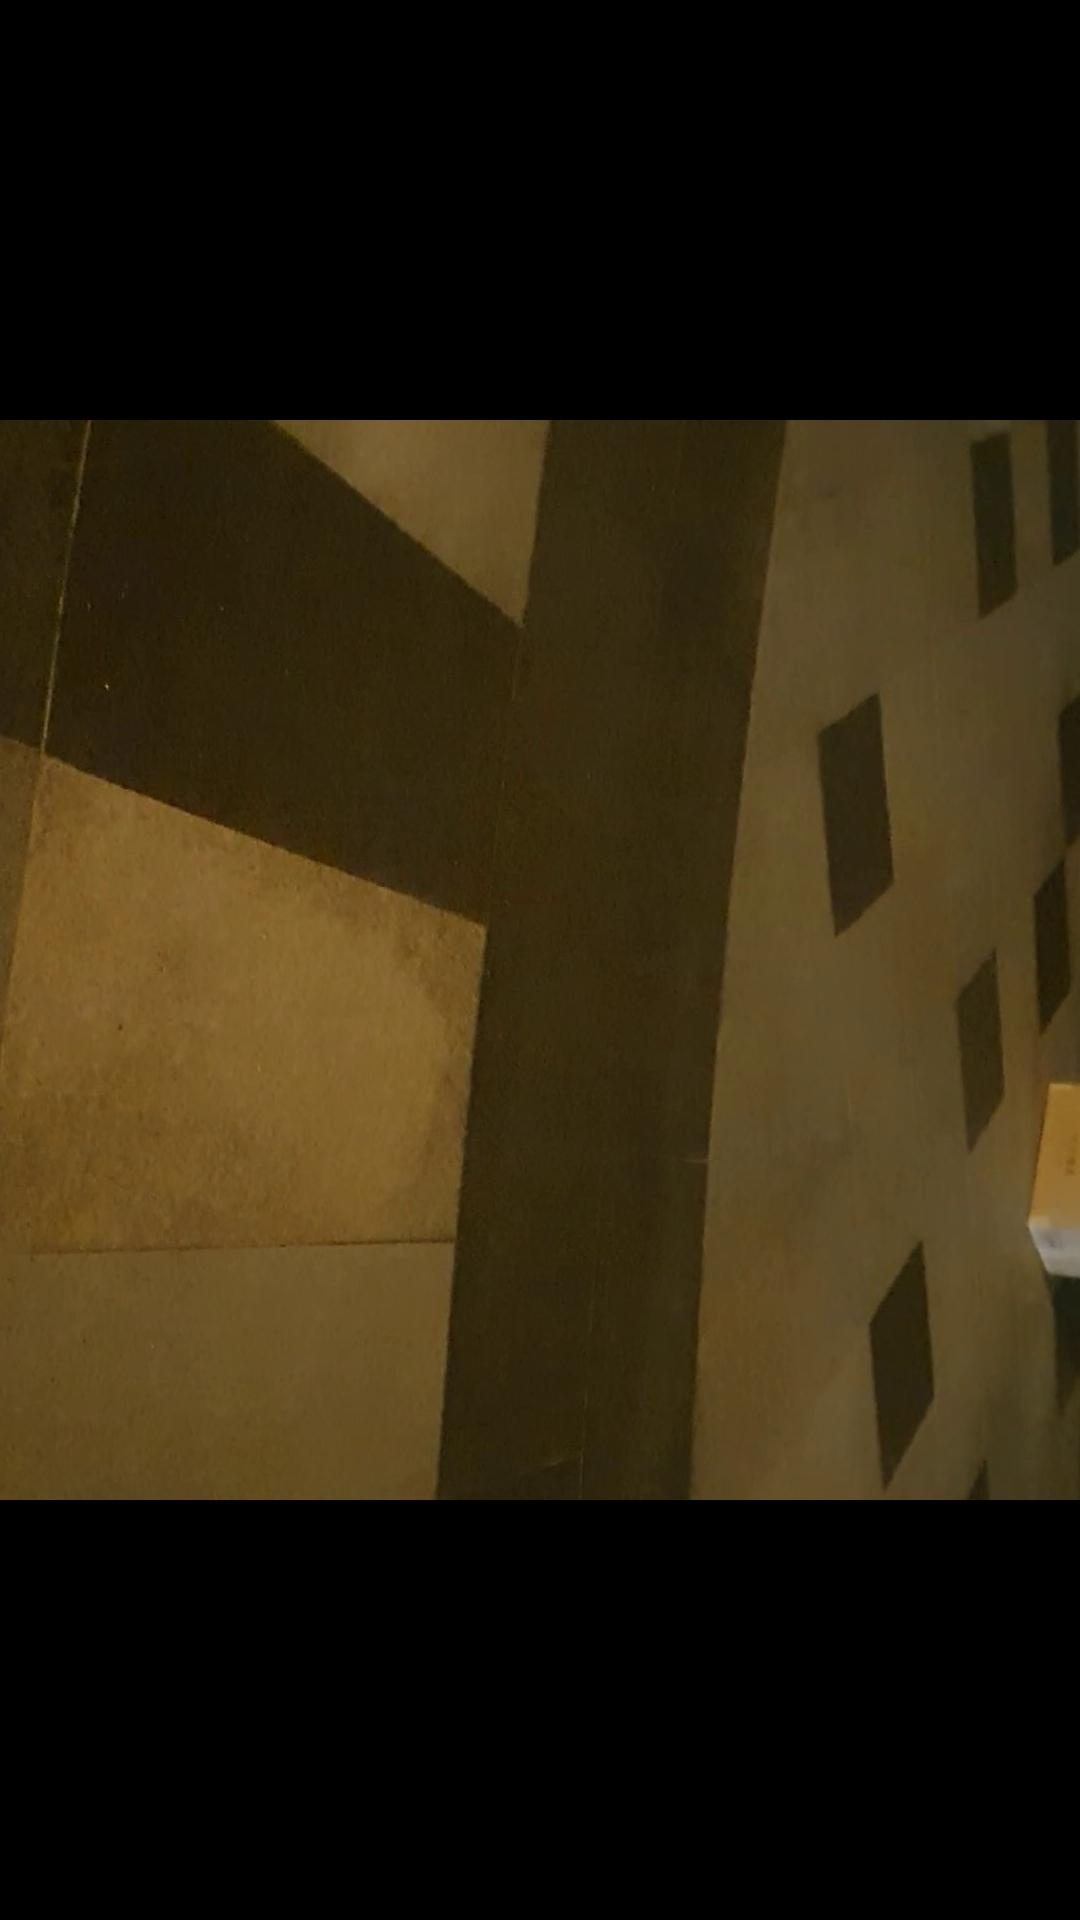Box: (1025, 1076, 1080, 1302)
